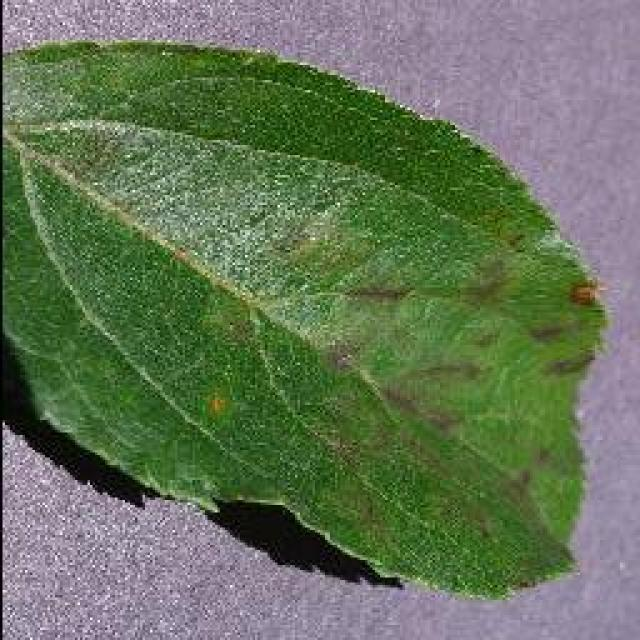apple scab disease: (0, 35, 610, 600)
